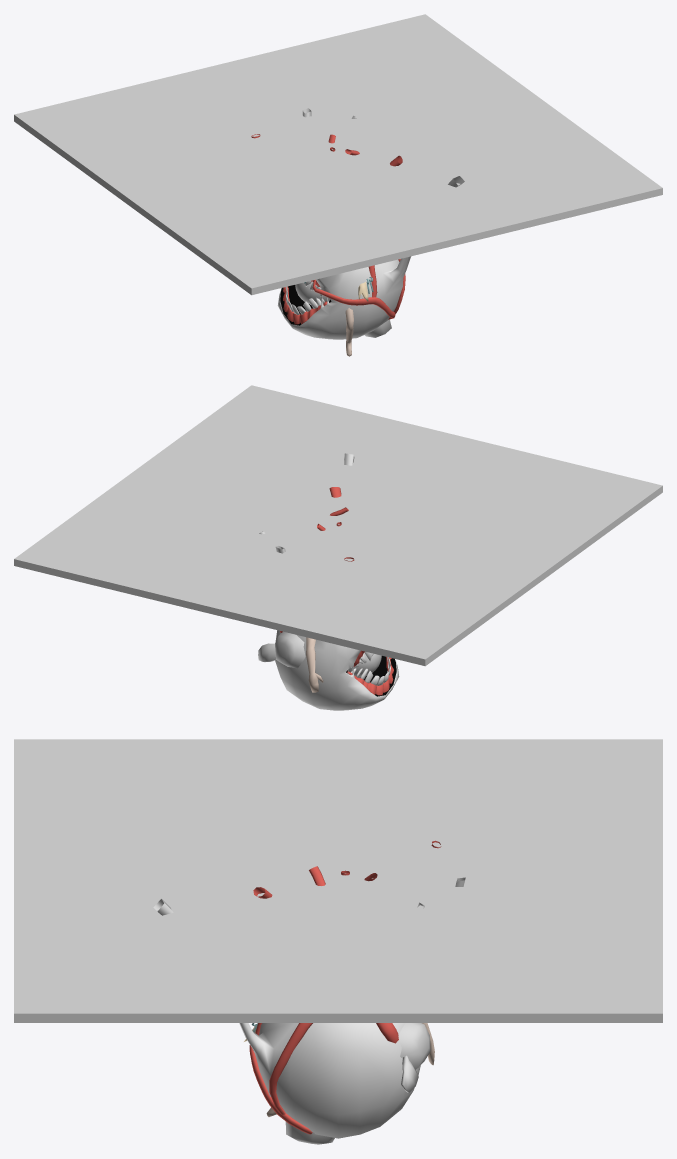
Rendered from Horror_Boss_01.fbx.
The picture shows the model from 3 angles, top to bottom: view 1: azimuth 30°, elevation 25°; view 2: azimuth 150°, elevation 25°; view 3: azimuth 270°, elevation 25°; orthographic projection. The views are drawn at different scales.
Visible parts, largest first — view 1: Ceiling, MainBody, String; view 2: Ceiling, MainBody, Circle, HumanBody, Teeth.01, Teeth; view 3: Ceiling, MainBody, String, Circle.
Part boxes in pixels (<box>): Ceiling: <box>14,14,662,295</box>; MainBody: <box>277,108,464,339</box>; String: <box>251,134,405,319</box>; Ceiling: <box>14,385,662,666</box>; MainBody: <box>259,453,399,710</box>; Circle: <box>258,631,305,668</box>; HumanBody: <box>306,637,323,692</box>; Teeth.01: <box>347,650,393,695</box>; Teeth: <box>351,651,390,685</box>; Ceiling: <box>14,739,662,1022</box>; MainBody: <box>153,877,465,1138</box>; String: <box>249,840,441,1134</box>; Circle: <box>285,1023,430,1144</box>.
Size of the model in its own units: 634 by 283 by 634.
